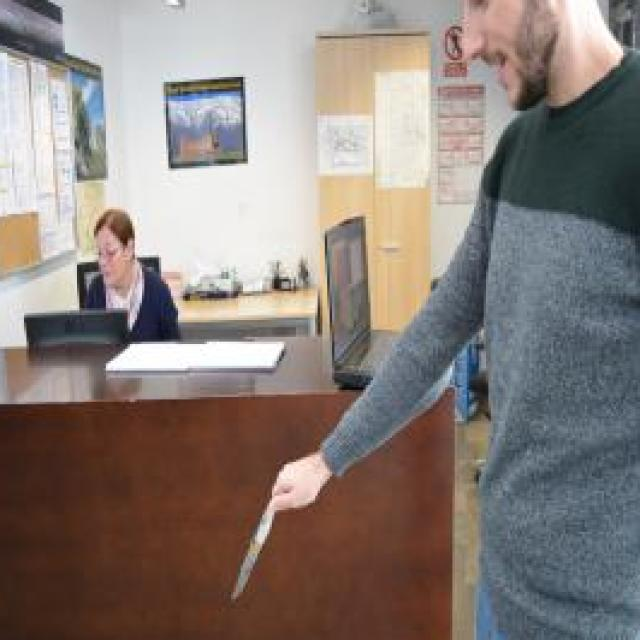knife: (226, 483, 285, 608)
